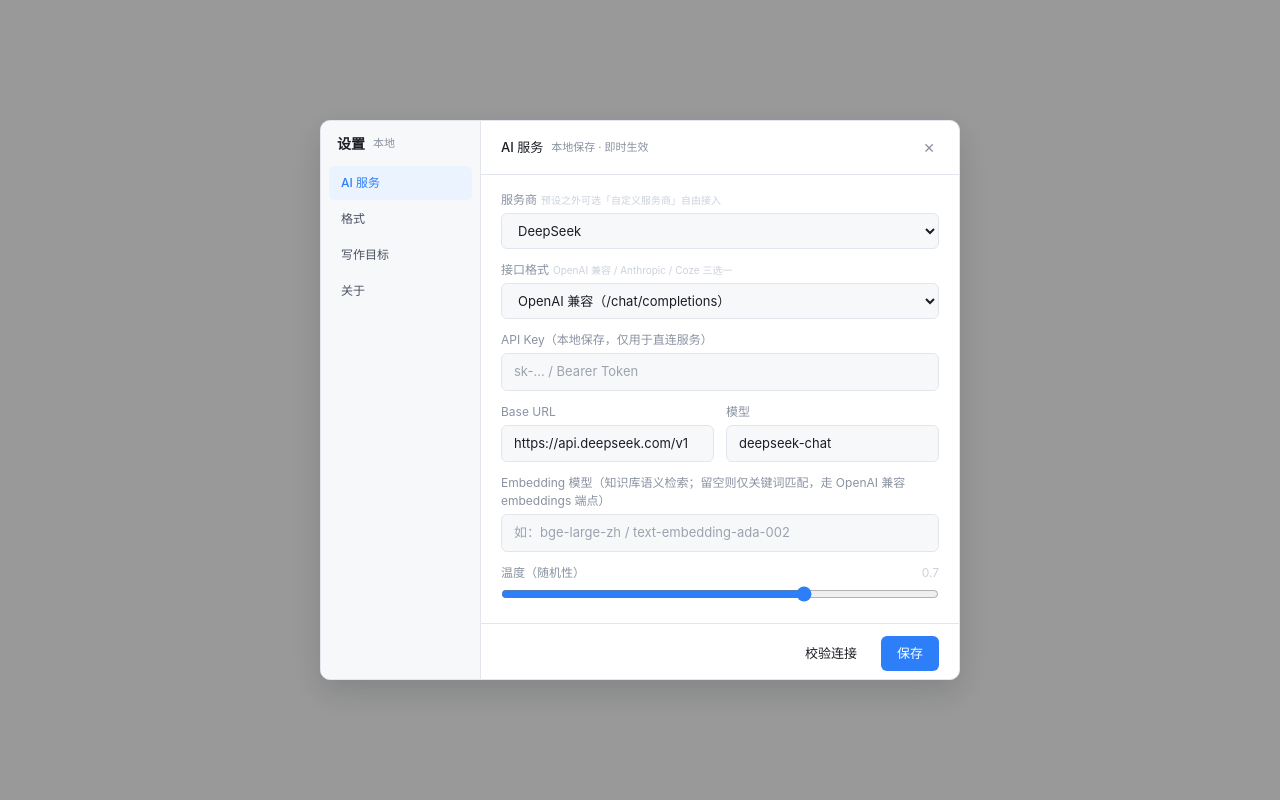
Test: 设置弹窗：左右分栏（左侧固定侧边栏 + 右侧内容区） › 写作目标分类：作品字数统计模块展示当前作品与全部作品累计字数
Click the button "写作目标". click: (400, 255)
box: [329,238,472,272]
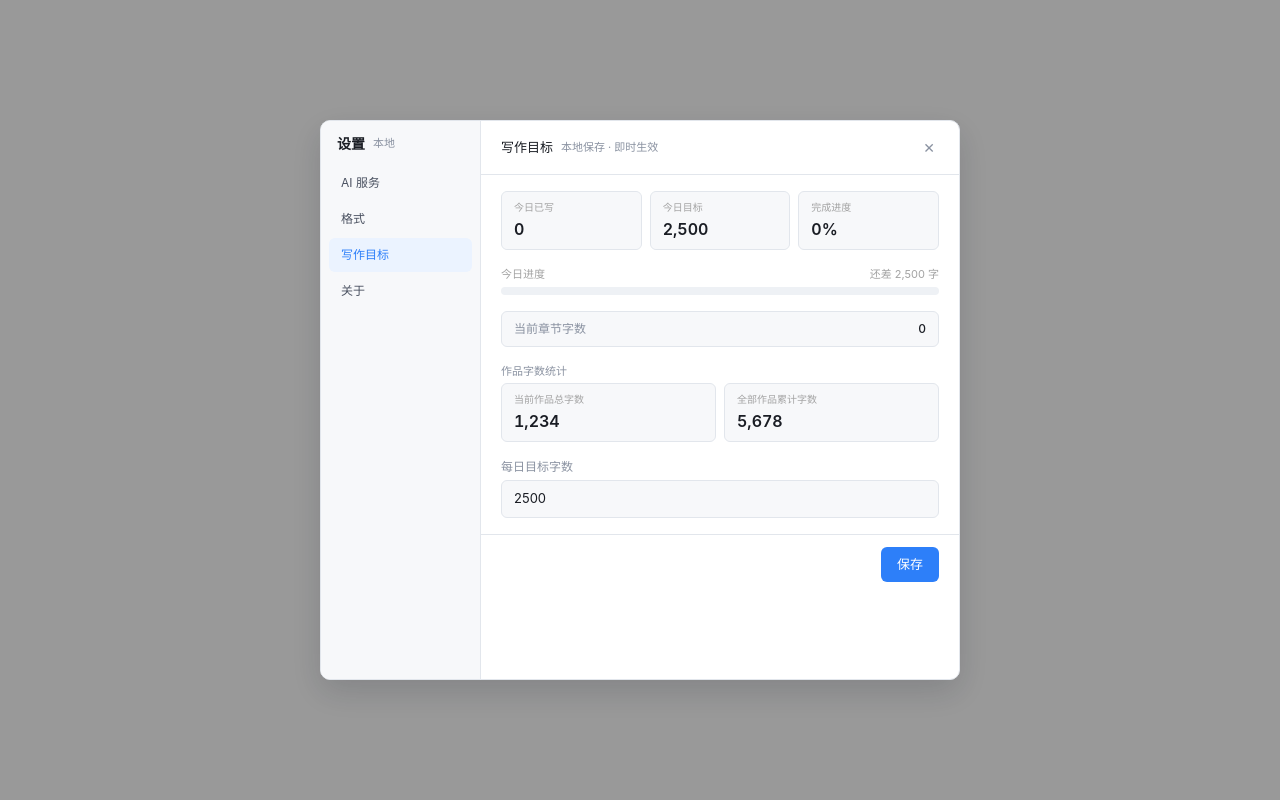
Now the text "作品字数统计" is shown, box [501,364,567,378]
Now the text "当前作品总字数" is shown, box [514,393,584,405]
Now the text "全部作品累计字数" is shown, box [737,393,817,405]
